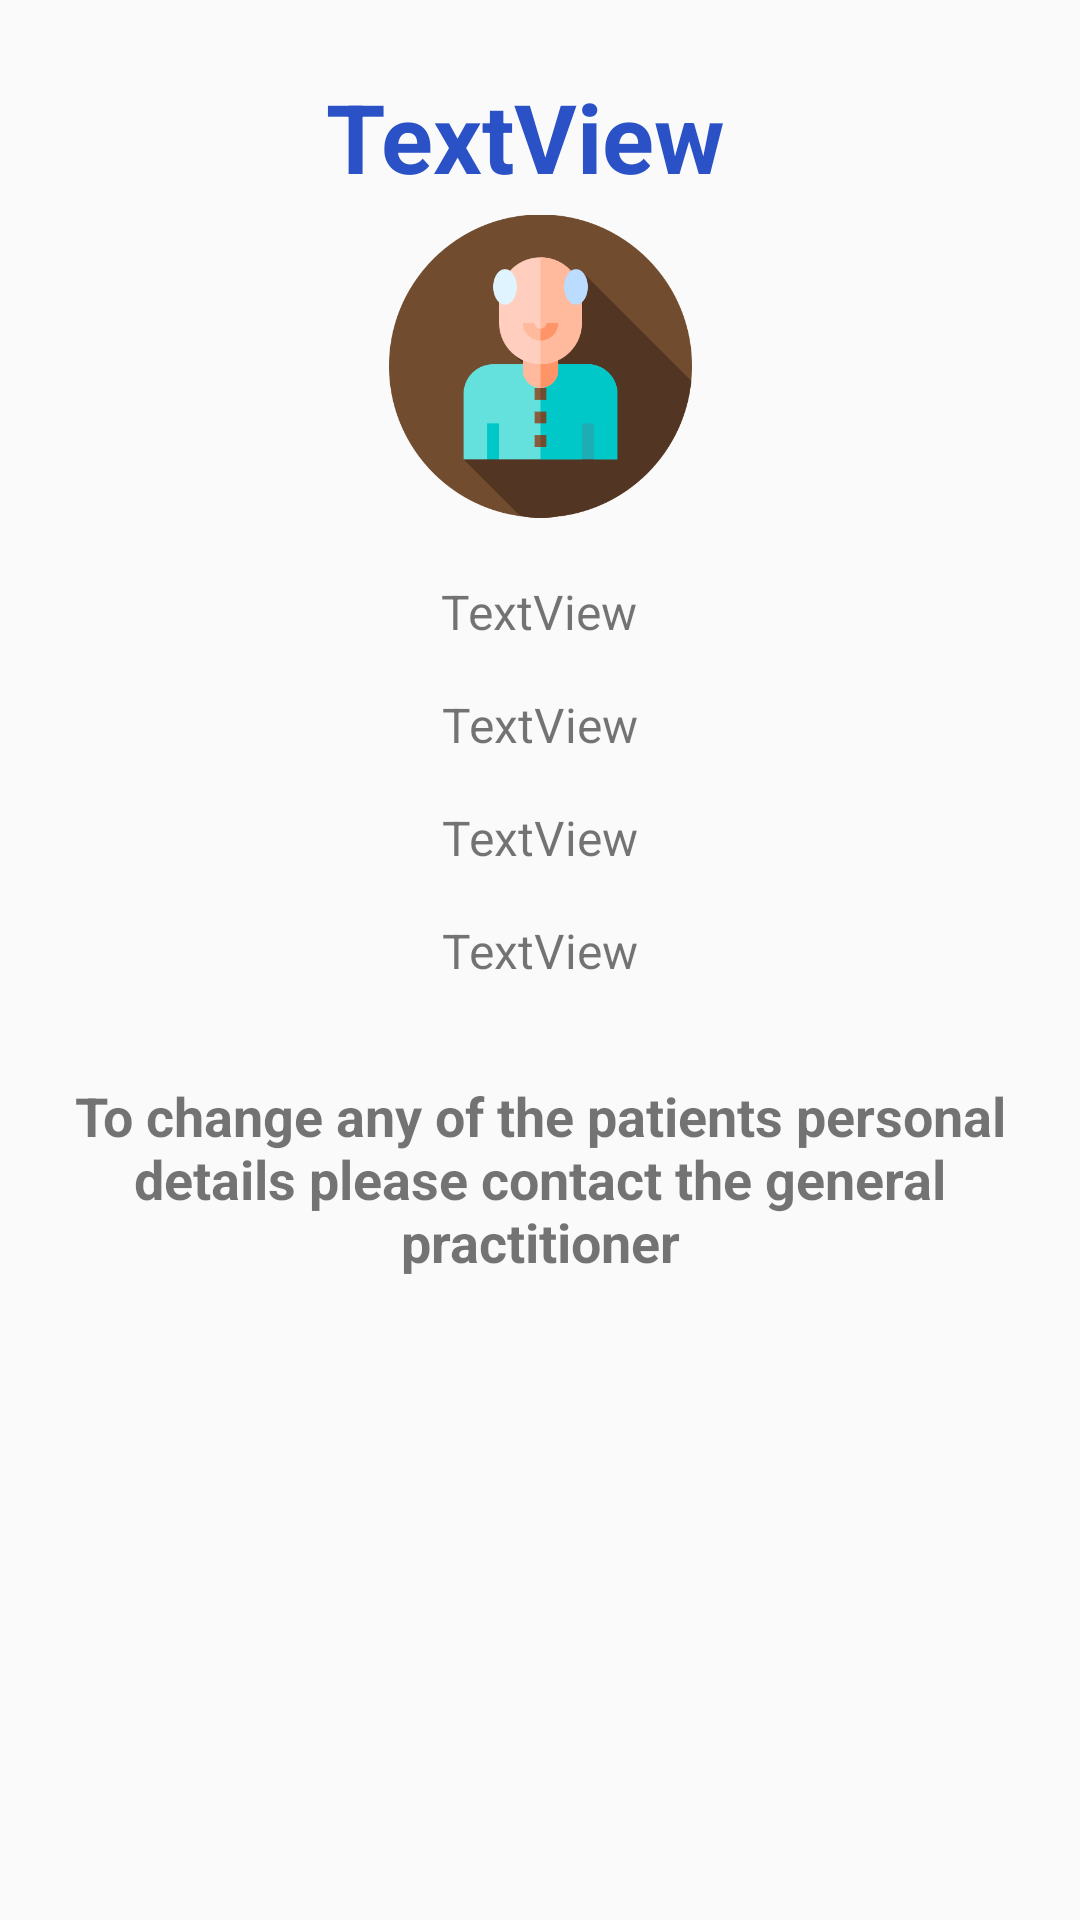

Icon bounding boxes for this 1080 x 1920 phone screenshot, format box=[x1, y1, x2, y2]:
account: box=[389, 215, 692, 518]
